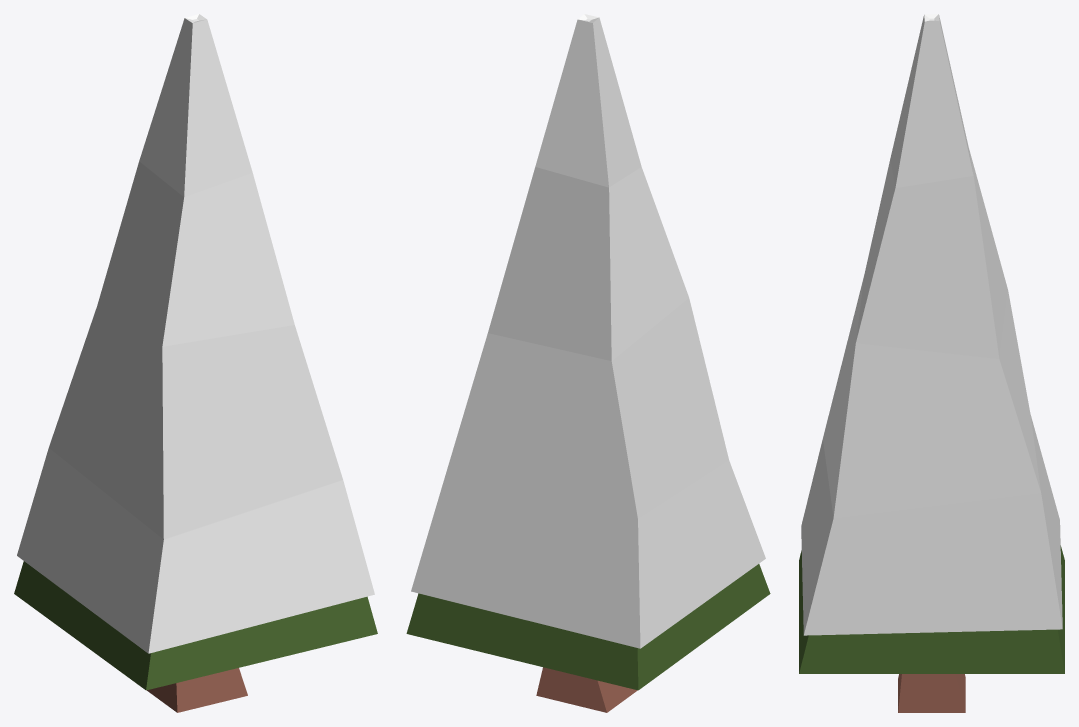
The model's file is snow_tree_4.glb.
The picture shows the model from 3 angles, left to right: view 1: azimuth 30°, elevation 25°; view 2: azimuth 150°, elevation 25°; view 3: azimuth 270°, elevation 25°; orthographic projection.
Parts seen in each view (by area): view 1: body; view 2: body; view 3: body.
Boxes of the visible parts, bbox=[...] form: body: bbox=[14, 14, 377, 712]; body: bbox=[406, 14, 770, 712]; body: bbox=[799, 14, 1064, 712].
Bounding box in the file's own units: 1.51 × 4.2 × 1.49.
1 material, 1 textured.
